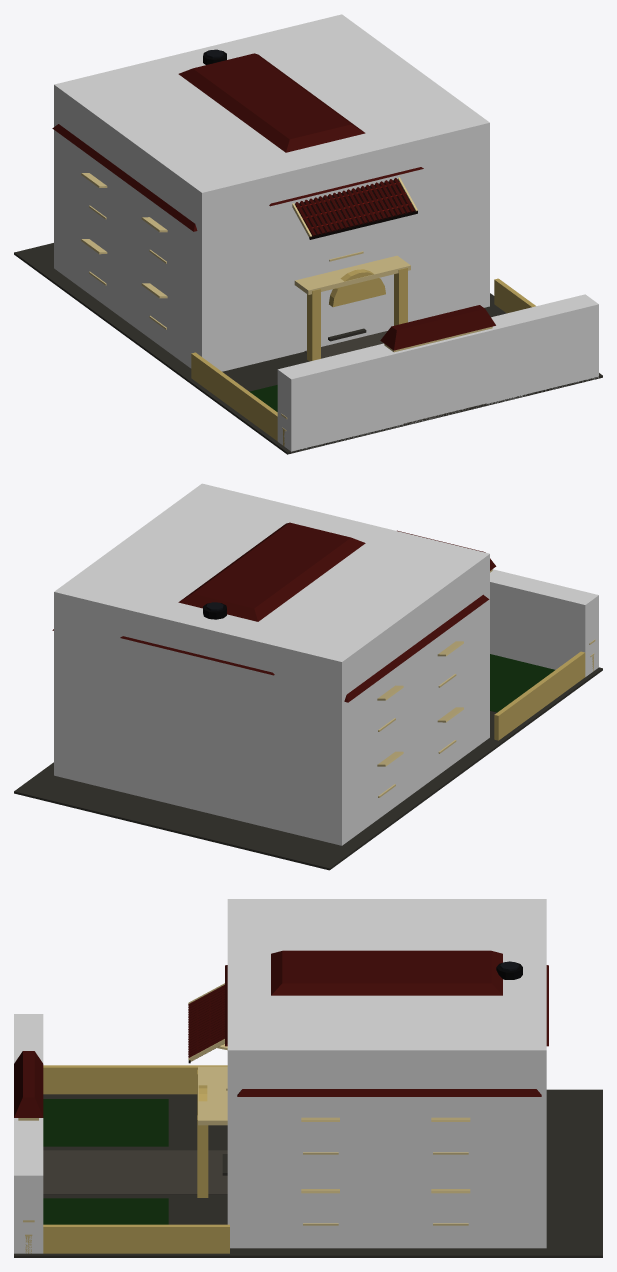
Rendered from CHN_046_gated_villa.glb.
3 views of the same model, one above another, from view 1: azimuth 30°, elevation 25°; view 2: azimuth 150°, elevation 25°; view 3: azimuth 270°, elevation 25° (orthographic). The views are drawn at different scales.
Visible parts, largest first — view 1: COL_Main, LOD0, COL_Compound; view 2: COL_Main, LOD0, COL_Compound; view 3: COL_Main, LOD0, COL_Compound.
Part boxes in pixels (x1,y1,x2,y2): COL_Main: [54, 14, 489, 371]; LOD0: [14, 49, 602, 454]; COL_Compound: [277, 294, 598, 451]; COL_Main: [54, 483, 489, 845]; LOD0: [14, 522, 602, 870]; COL_Compound: [490, 569, 598, 676]; COL_Main: [227, 899, 546, 1248]; LOD0: [14, 950, 602, 1257]; COL_Compound: [14, 1014, 43, 1253].
Size of what is drawn, in the model's own units: 16 by 9.42 by 24.
